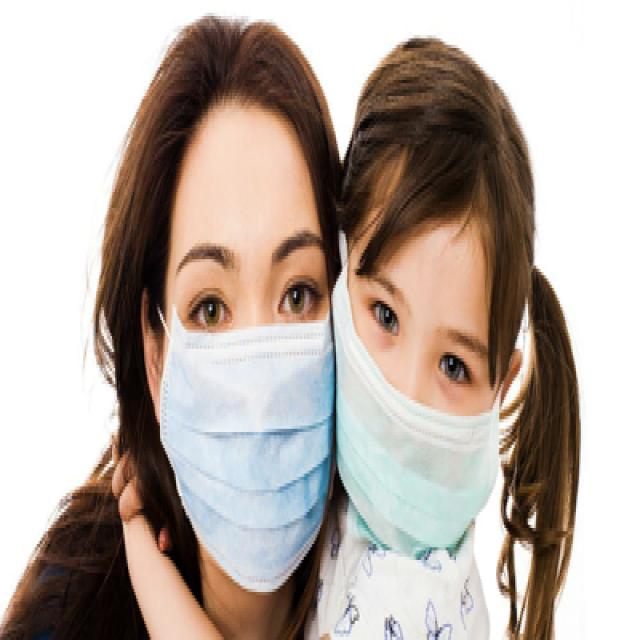mask: (164, 224, 334, 595), (331, 259, 507, 541)
